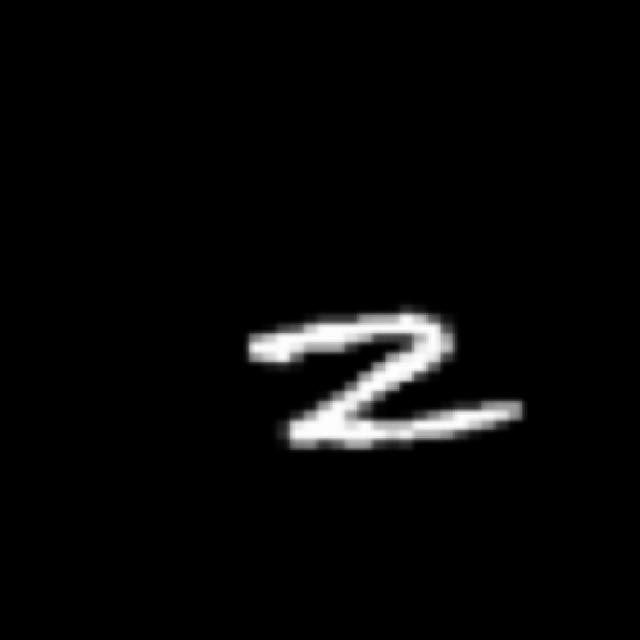two -2-: (239, 300, 536, 455)
